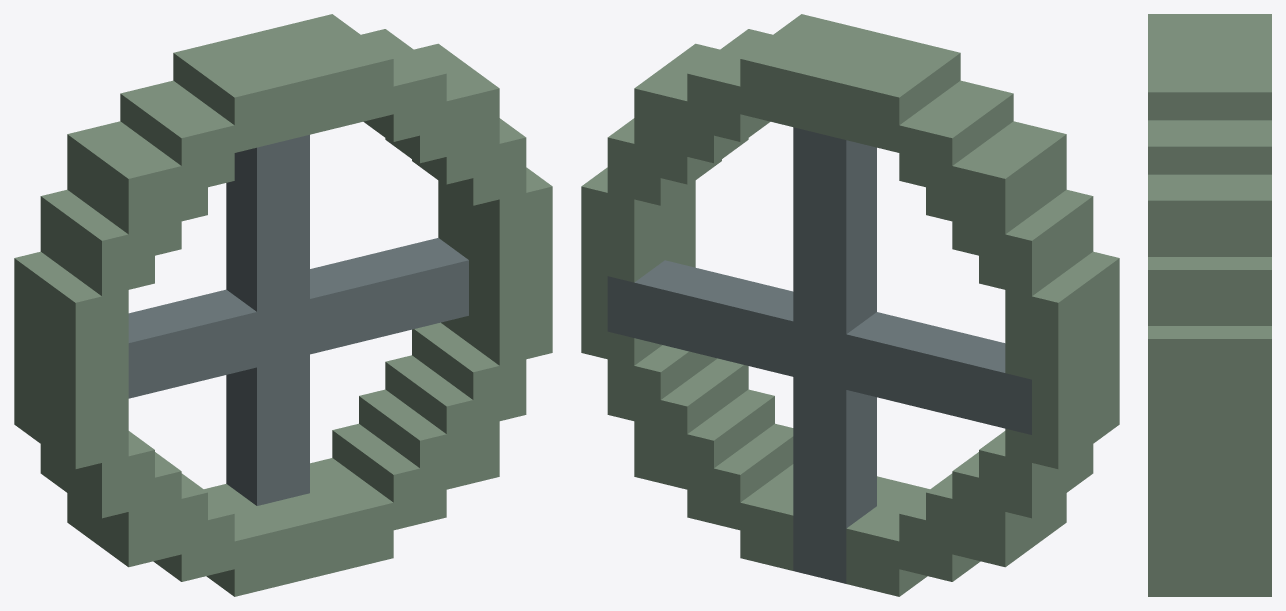
File: geospatial-07.glb
The picture shows the model from 3 angles, left to right: view 1: azimuth 30°, elevation 25°; view 2: azimuth 150°, elevation 25°; view 3: azimuth 270°, elevation 25°; orthographic projection.
Parts seen in each view (by area): view 1: Compass; view 2: Compass; view 3: Compass.
Boxes of the visible parts, x1,y1,x2,y2 form: Compass: (14,14,552,596); Compass: (581,14,1119,596); Compass: (1148,14,1271,596).
Bounding box in the file's own units: 1.44 × 1.44 × 0.32.
